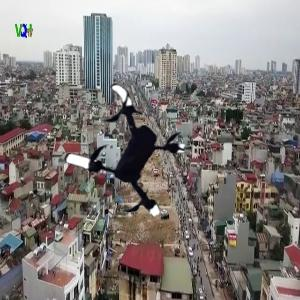drone: (53, 82, 195, 224)
